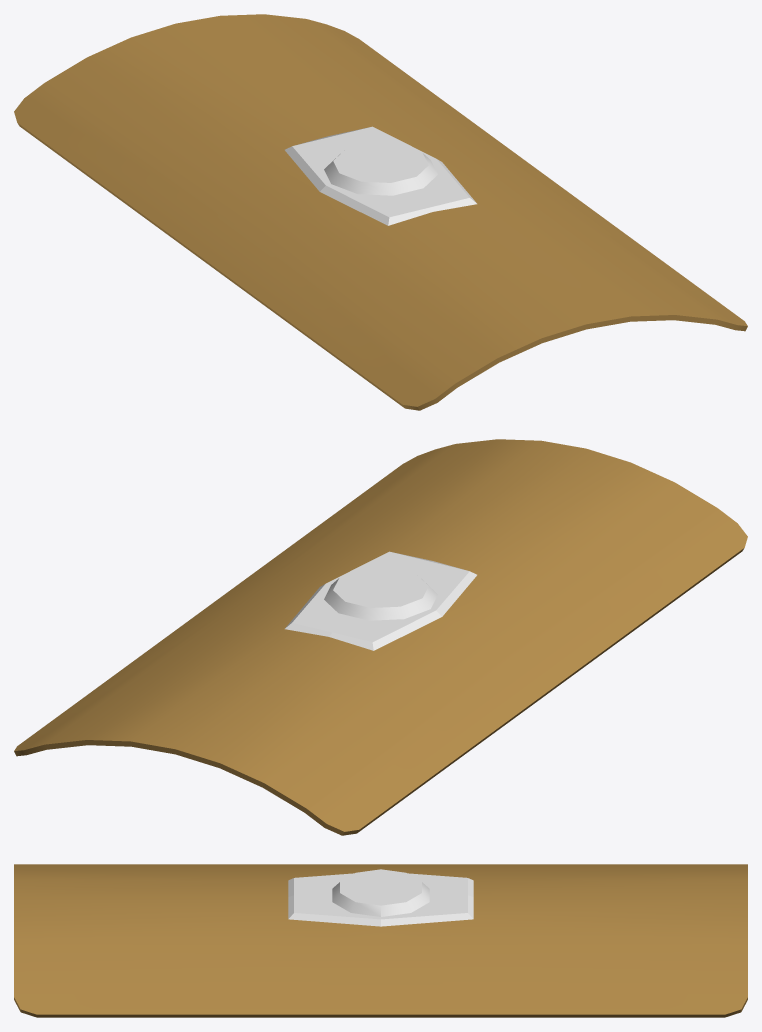
File: shield.fbx
3 renders of one model, top to bottom at view 1: azimuth 30°, elevation 25°; view 2: azimuth 150°, elevation 25°; view 3: azimuth 270°, elevation 25°, orthographic. The views are drawn at different scales.
Visible parts, largest first — view 1: shield; view 2: shield; view 3: shield.
Part boxes in pixels (bbox=[...]): shield: bbox=[14, 14, 747, 410]; shield: bbox=[14, 439, 747, 835]; shield: bbox=[14, 864, 747, 1017].
Size of the model in its own units: 57.71 by 10.2 by 120.
